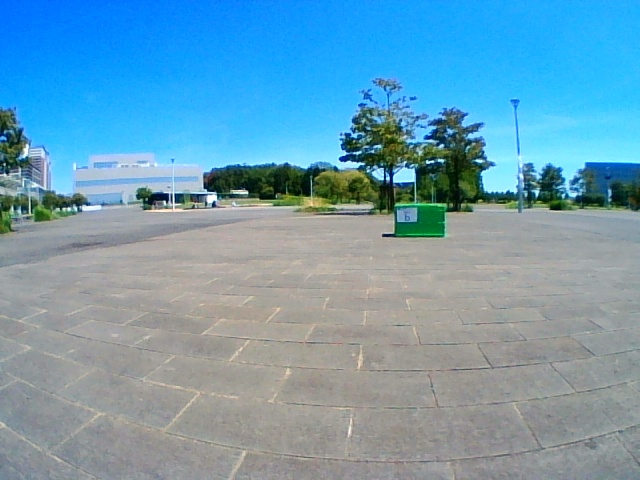green_box: (394, 203, 444, 237)
tag_b: (398, 207, 416, 222)
